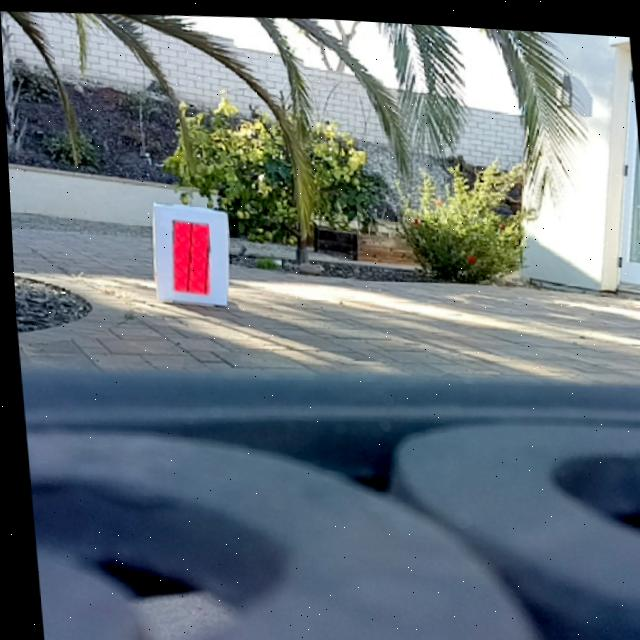led: (167, 214, 211, 294)
